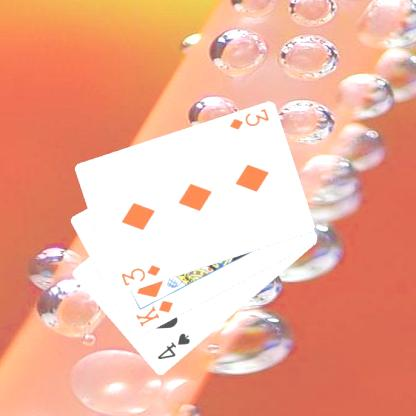3D: (226, 106, 271, 132), (118, 262, 162, 288)
4S: (154, 330, 192, 362)
KD: (133, 298, 175, 328)
